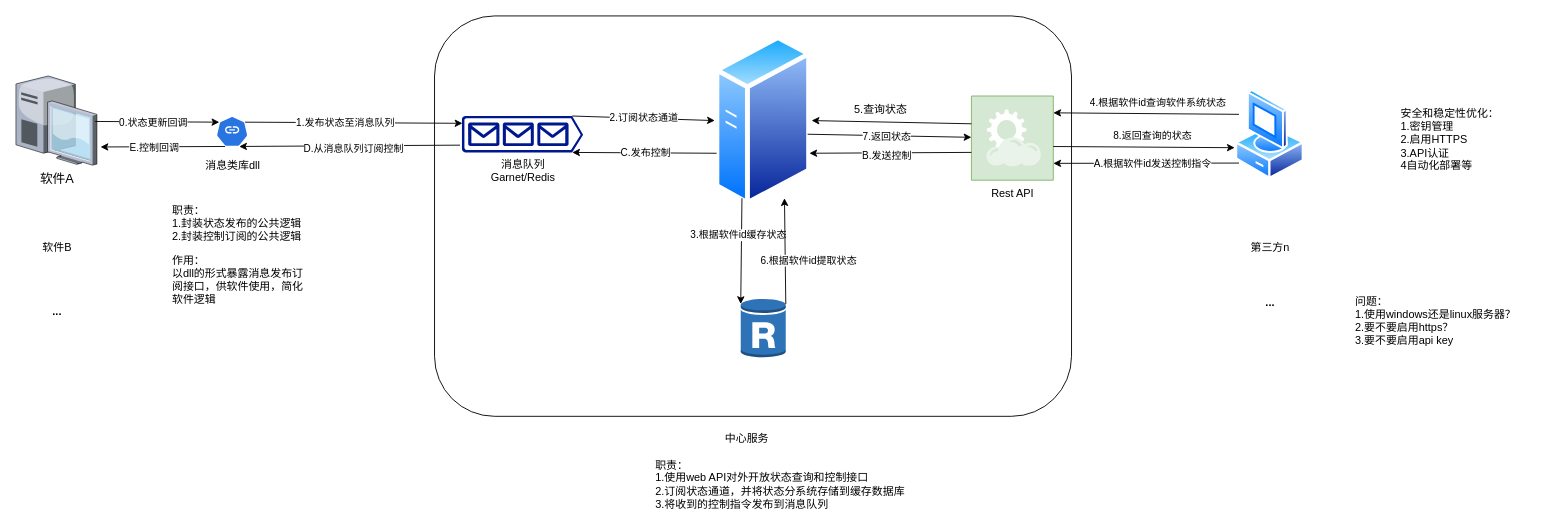
Image size: 1551x532. Some labels were removed from this diagram. The centre of each missing label's shape, as x and y in pixels:
第三方m: the point at 1269,134
缓存数据库 Garnet/Redis: the point at 763,327
